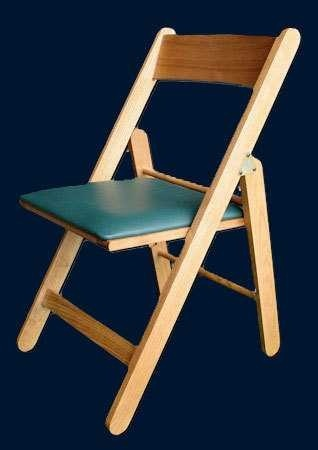obstacle: (17, 28, 299, 434)
